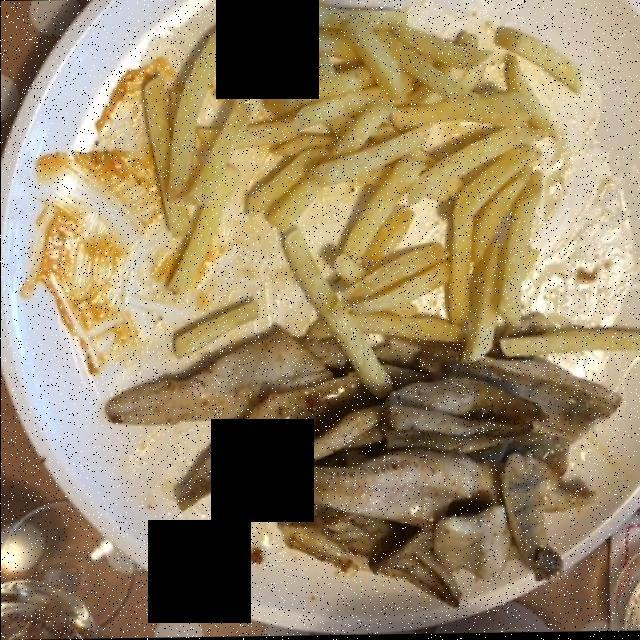chips-french-fries: (128, 0, 630, 369)
fillets: (94, 322, 617, 608)
